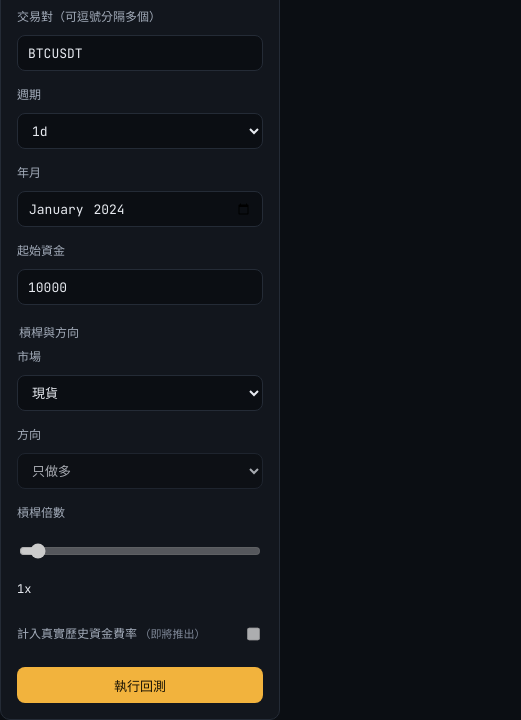
Test: Backtest › run_backtest_command 失敗時顯示錯誤訊息，不會卡在 loading
(page scrolled)
Click the button "執行回測". click: (140, 685)
box: [17, 667, 263, 703]
(page scrolled)
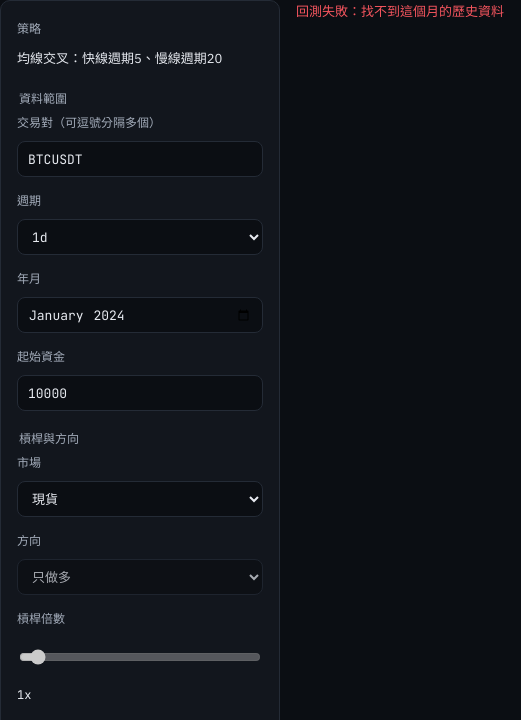
Expected: the message shows "找不到這個月的歷史資料", [361, 3, 504, 20]
